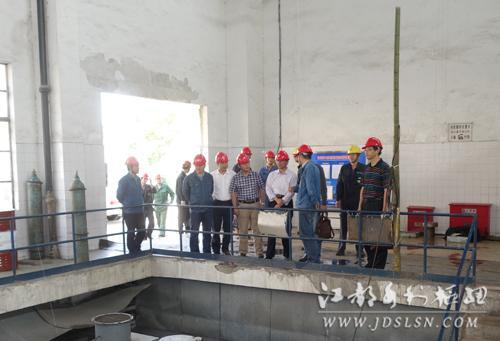helmet: (363, 134, 384, 165), (294, 141, 314, 169), (122, 153, 141, 177), (344, 141, 361, 165), (234, 153, 252, 175), (192, 153, 209, 176), (213, 151, 229, 173), (276, 147, 290, 170), (264, 149, 277, 166), (181, 159, 193, 174)
